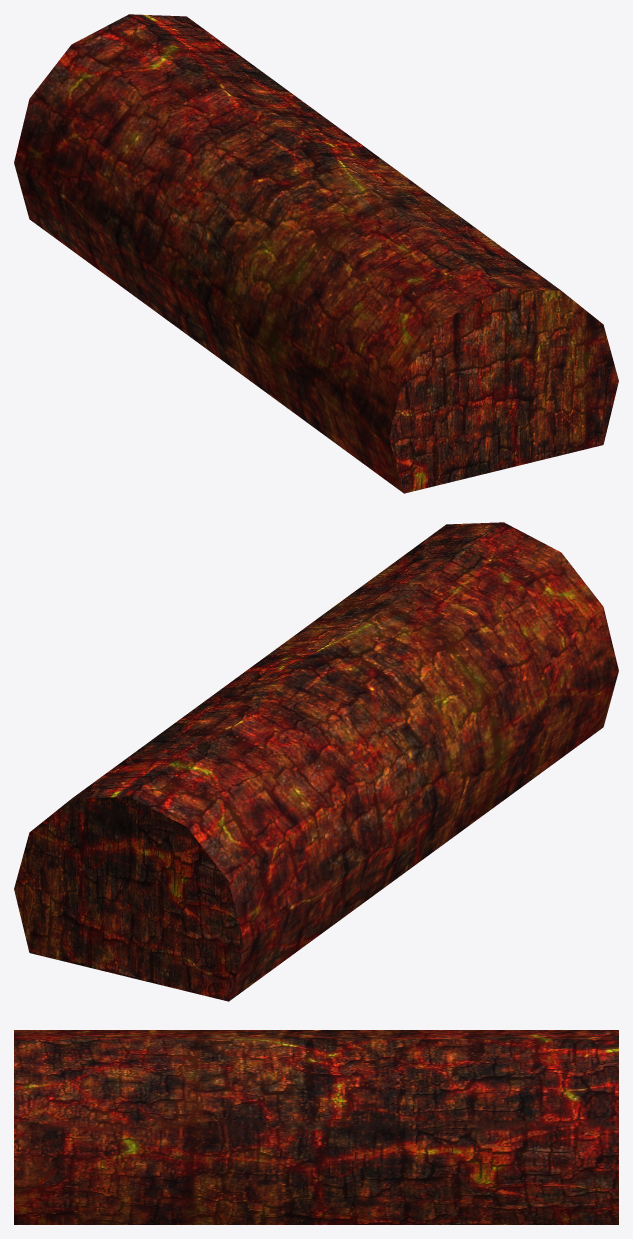
File: firewood_02.fbx
3 views of the same model, one above another, from view 1: azimuth 30°, elevation 25°; view 2: azimuth 150°, elevation 25°; view 3: azimuth 270°, elevation 25° (orthographic). The views are drawn at different scales.
Parts seen in each view (by area): view 1: firewood_02; view 2: firewood_02; view 3: firewood_02.
Part boxes in pixels (bbox=[...]): firewood_02: bbox=[14, 14, 618, 493]; firewood_02: bbox=[14, 522, 618, 1001]; firewood_02: bbox=[14, 1030, 618, 1224].
Size of the model in its own units: 9.76 by 7.32 by 27.51.
